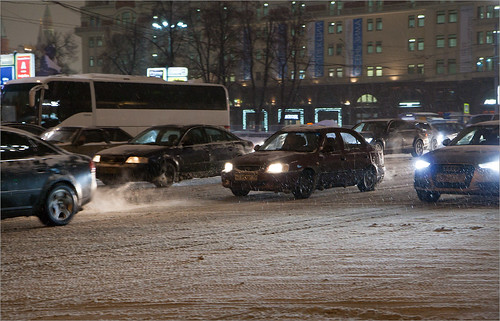building: (68, 1, 499, 85)
bus: (20, 74, 229, 139)
car: (218, 125, 392, 194), (88, 129, 250, 187), (1, 140, 100, 225), (417, 119, 499, 209)
